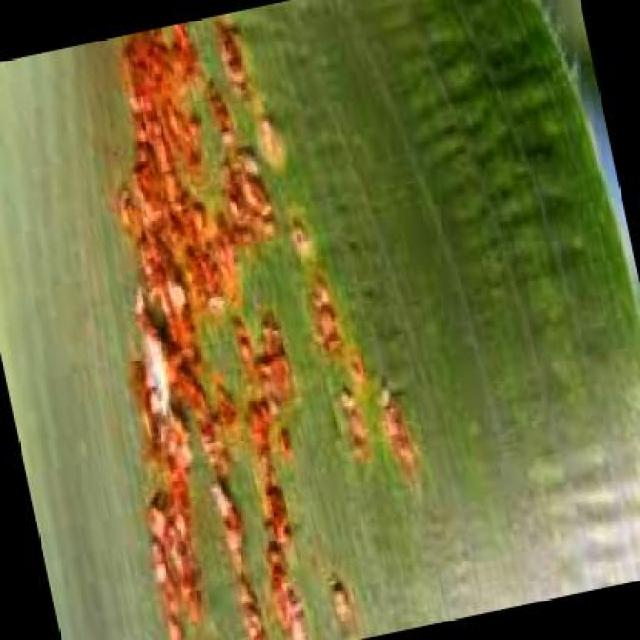Corn_Rust: (91, 56, 592, 590)
